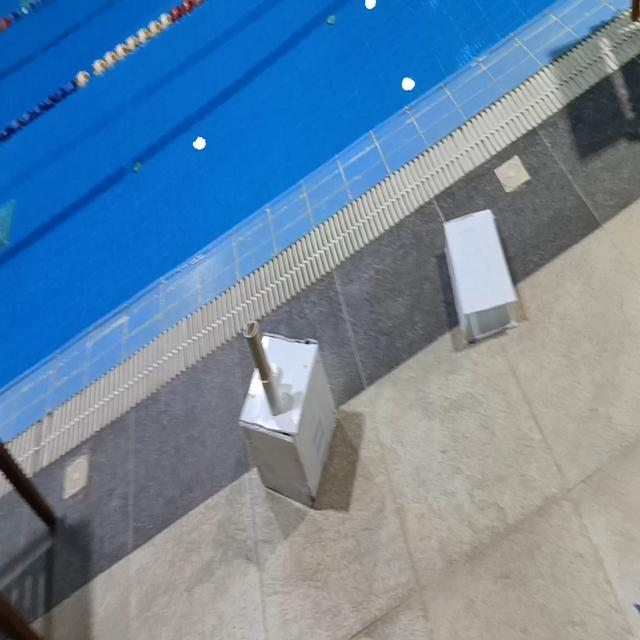Cube: (237, 328, 337, 506)
Cuboid: (442, 207, 518, 343)
